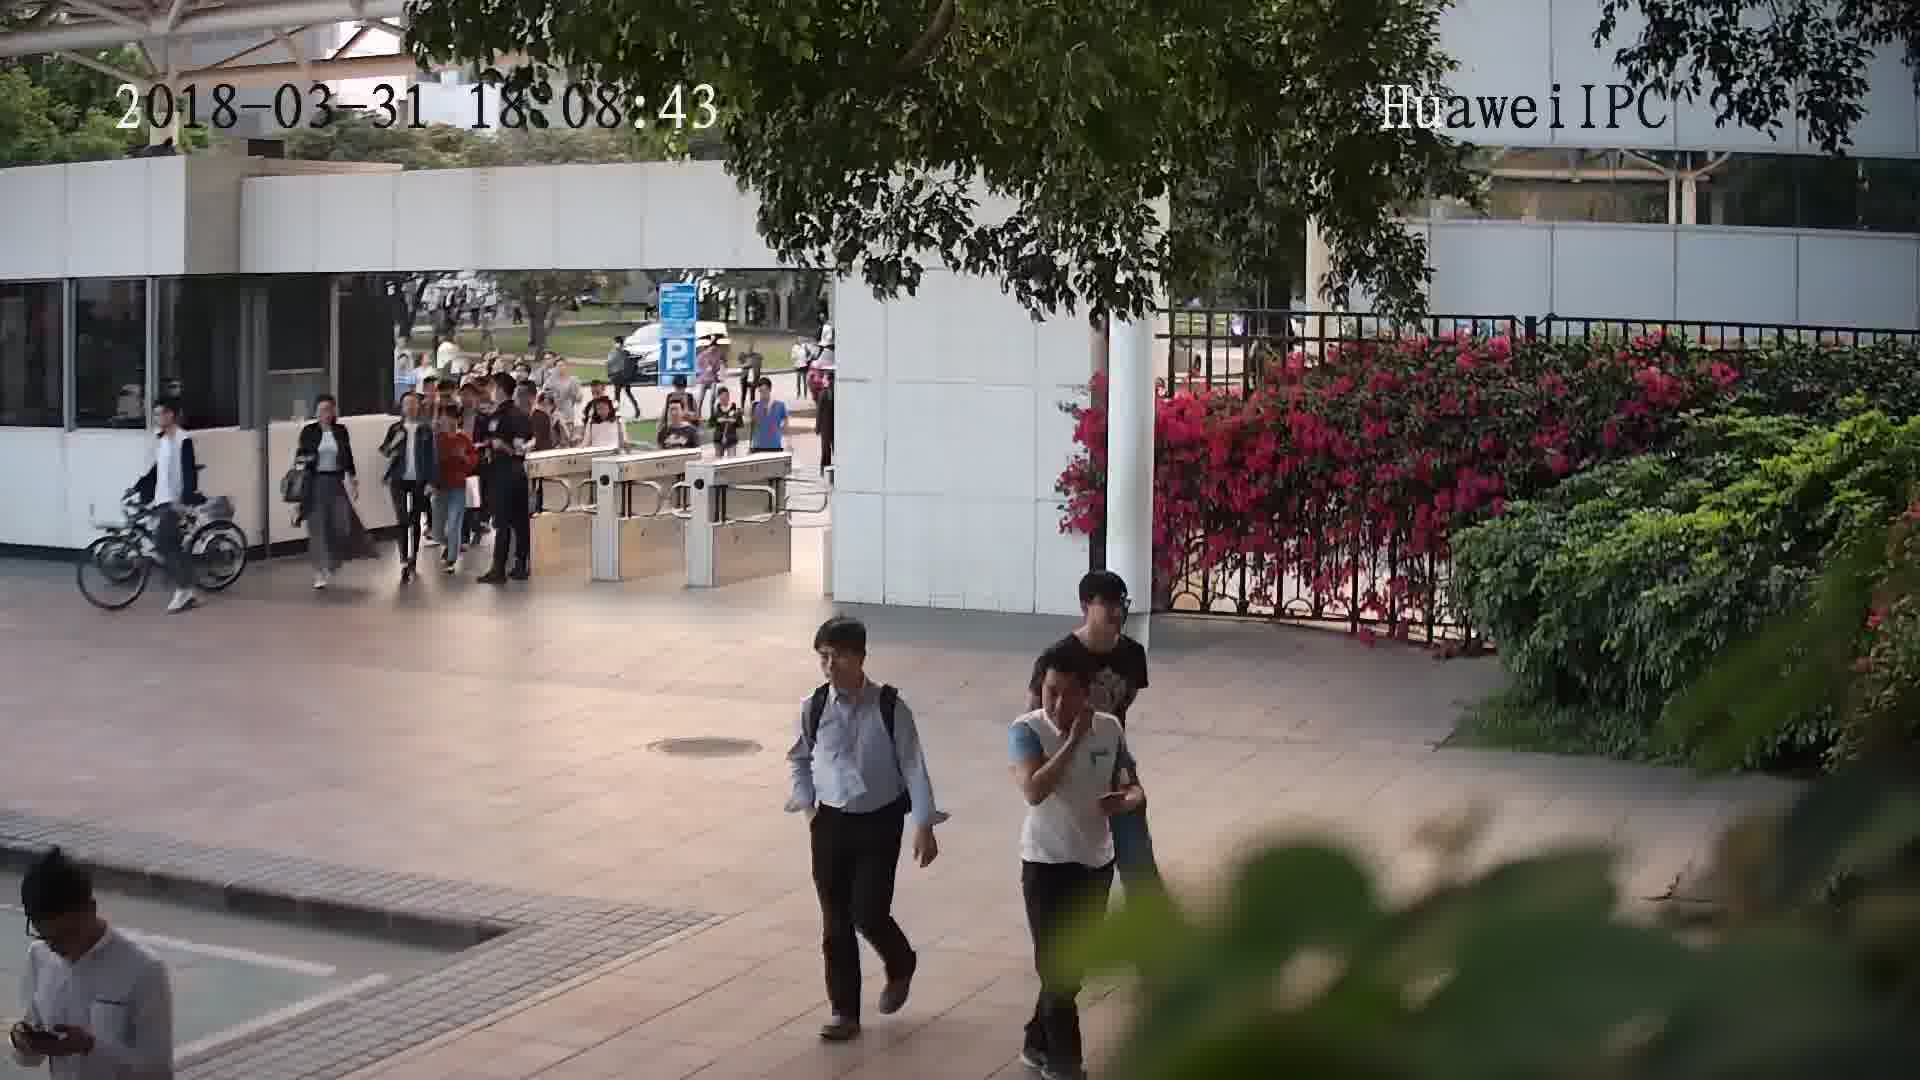face: (1034, 666, 1093, 725), (812, 634, 863, 685), (1085, 585, 1133, 633)
person: (16, 852, 167, 998), (1012, 639, 1130, 755), (794, 616, 916, 726), (1048, 566, 1144, 670), (300, 389, 349, 447), (151, 391, 198, 452), (484, 367, 530, 424), (385, 388, 428, 436), (432, 399, 472, 448), (515, 380, 554, 428), (658, 396, 702, 436), (454, 381, 491, 427), (587, 391, 629, 431), (752, 378, 790, 415), (547, 357, 583, 390), (711, 386, 742, 420)
